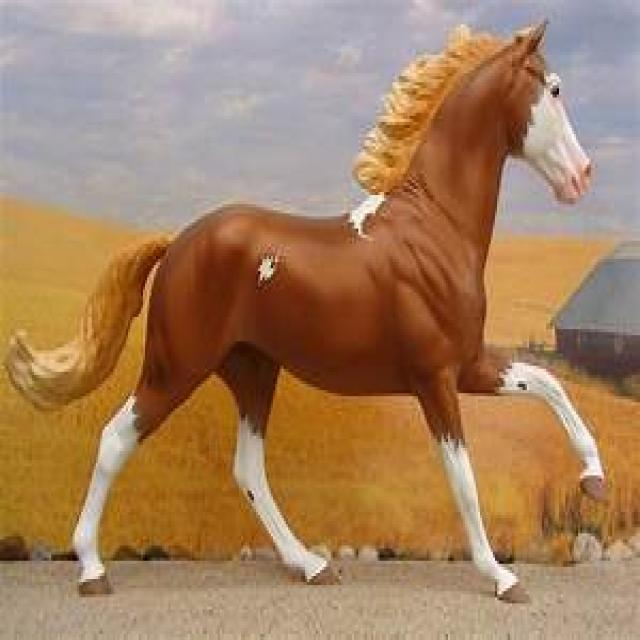horse: (4, 21, 606, 606)
